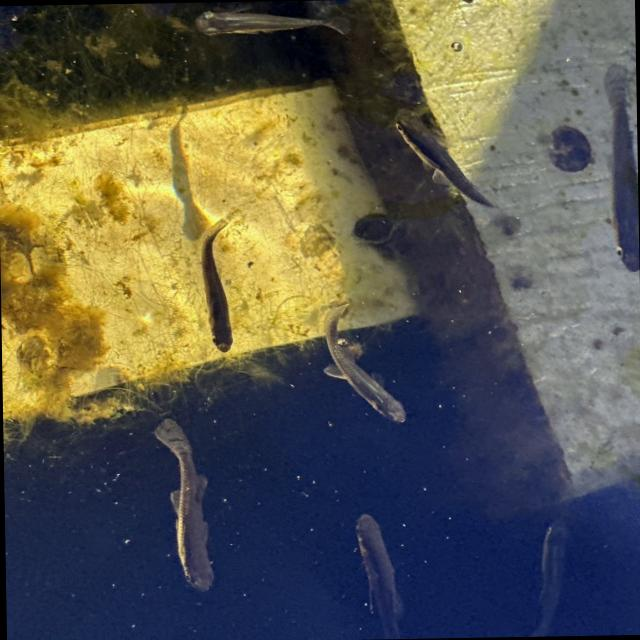Sivrisinek Baligi: (144, 414, 236, 590), (372, 96, 514, 210), (308, 298, 422, 432), (579, 59, 639, 278), (330, 503, 420, 640), (188, 1, 357, 59), (184, 219, 254, 357), (520, 521, 572, 636)
